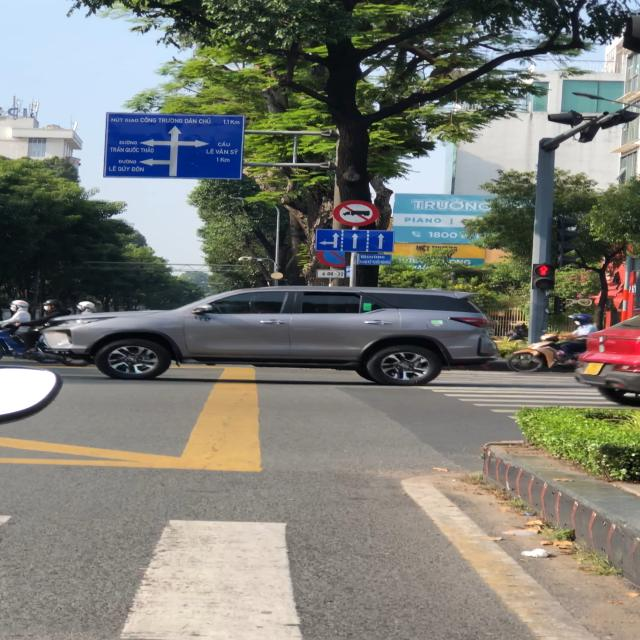Bien bao cam xe so-mi ro-mooc: (332, 199, 384, 228)
